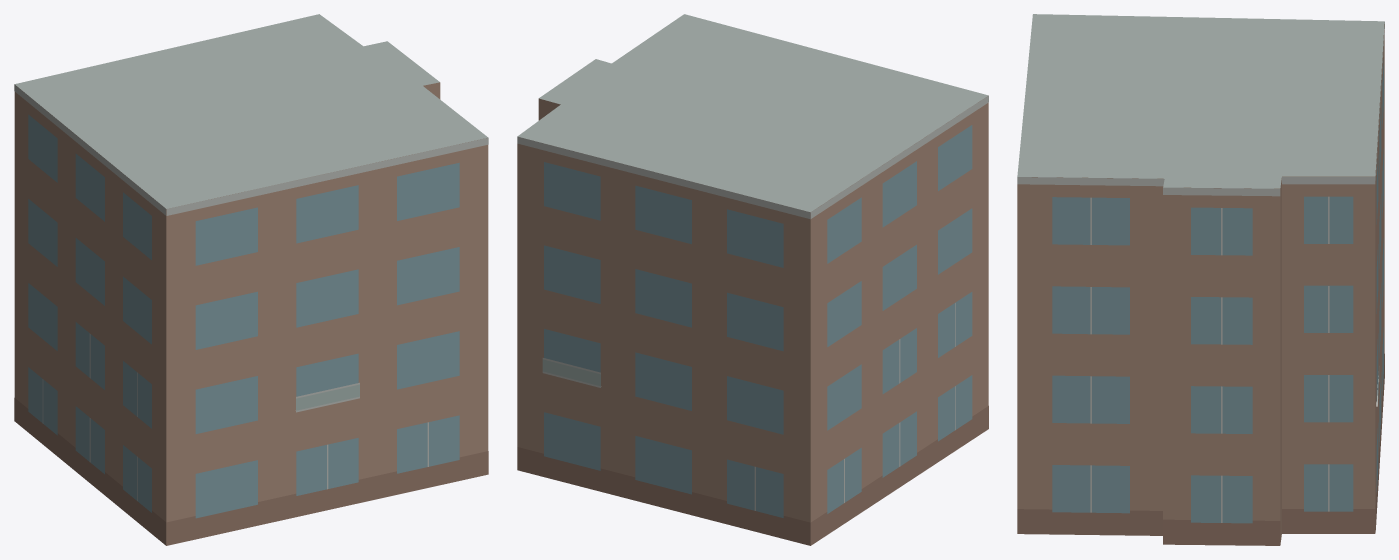
The model's file is survey-upis-32820390.glb.
3 views of the same model, side by side, from view 1: azimuth 30°, elevation 25°; view 2: azimuth 150°, elevation 25°; view 3: azimuth 270°, elevation 25° (orthographic). The views are drawn at different scales.
Visible parts, largest first — view 1: survey-upis-32820390.tmp; view 2: survey-upis-32820390.tmp; view 3: survey-upis-32820390.tmp.
Boxes of the visible parts, x1=… form: survey-upis-32820390.tmp: x1=14, y1=14, x2=488, y2=545; survey-upis-32820390.tmp: x1=517, y1=14, x2=988, y2=545; survey-upis-32820390.tmp: x1=1017, y1=14, x2=1384, y2=545.
Bounding box in the file's own units: 12.24 × 11.65 × 10.87.
